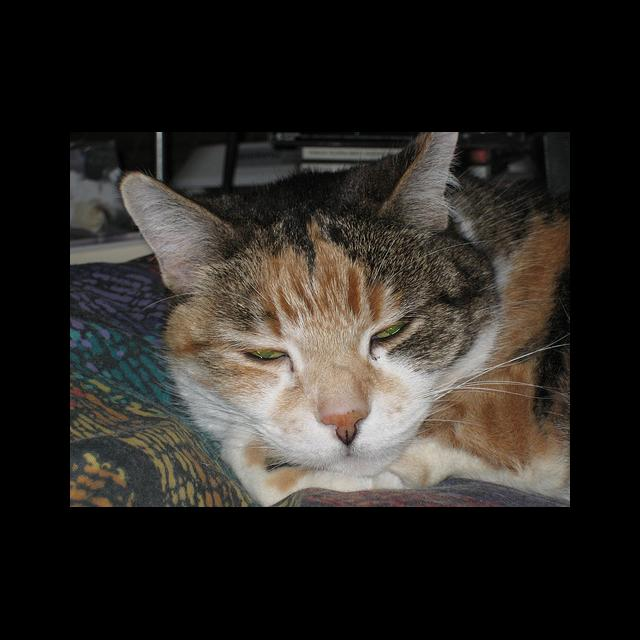animals: (129, 132, 451, 442)
